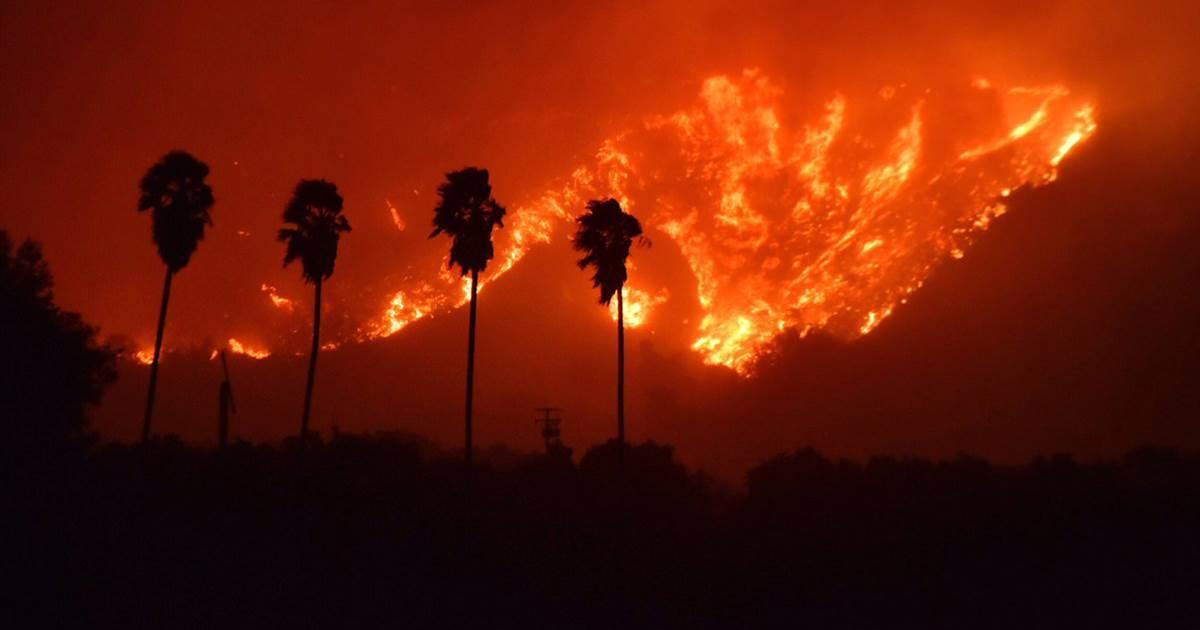fire: (514, 29, 1100, 387), (119, 183, 516, 418)
